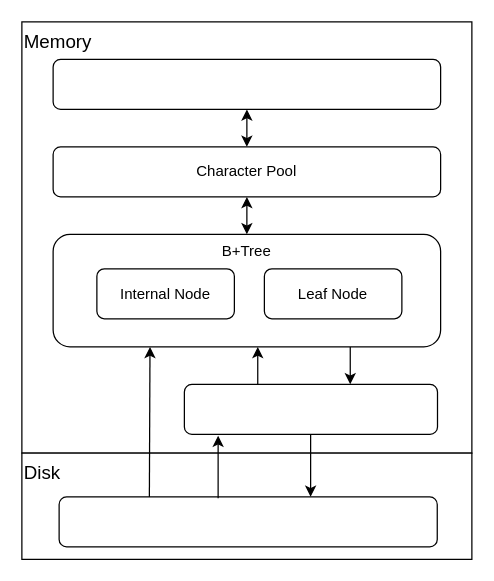
The diagram is 494 pixels wide and 581 high, and some of its shapes have lost their labels. Each missing label, with the centre of its shape:
"Customed File" goes at pixel 247 521.
"Page Cache" goes at pixel 310 408.
"User Options" goes at pixel 246 83.
